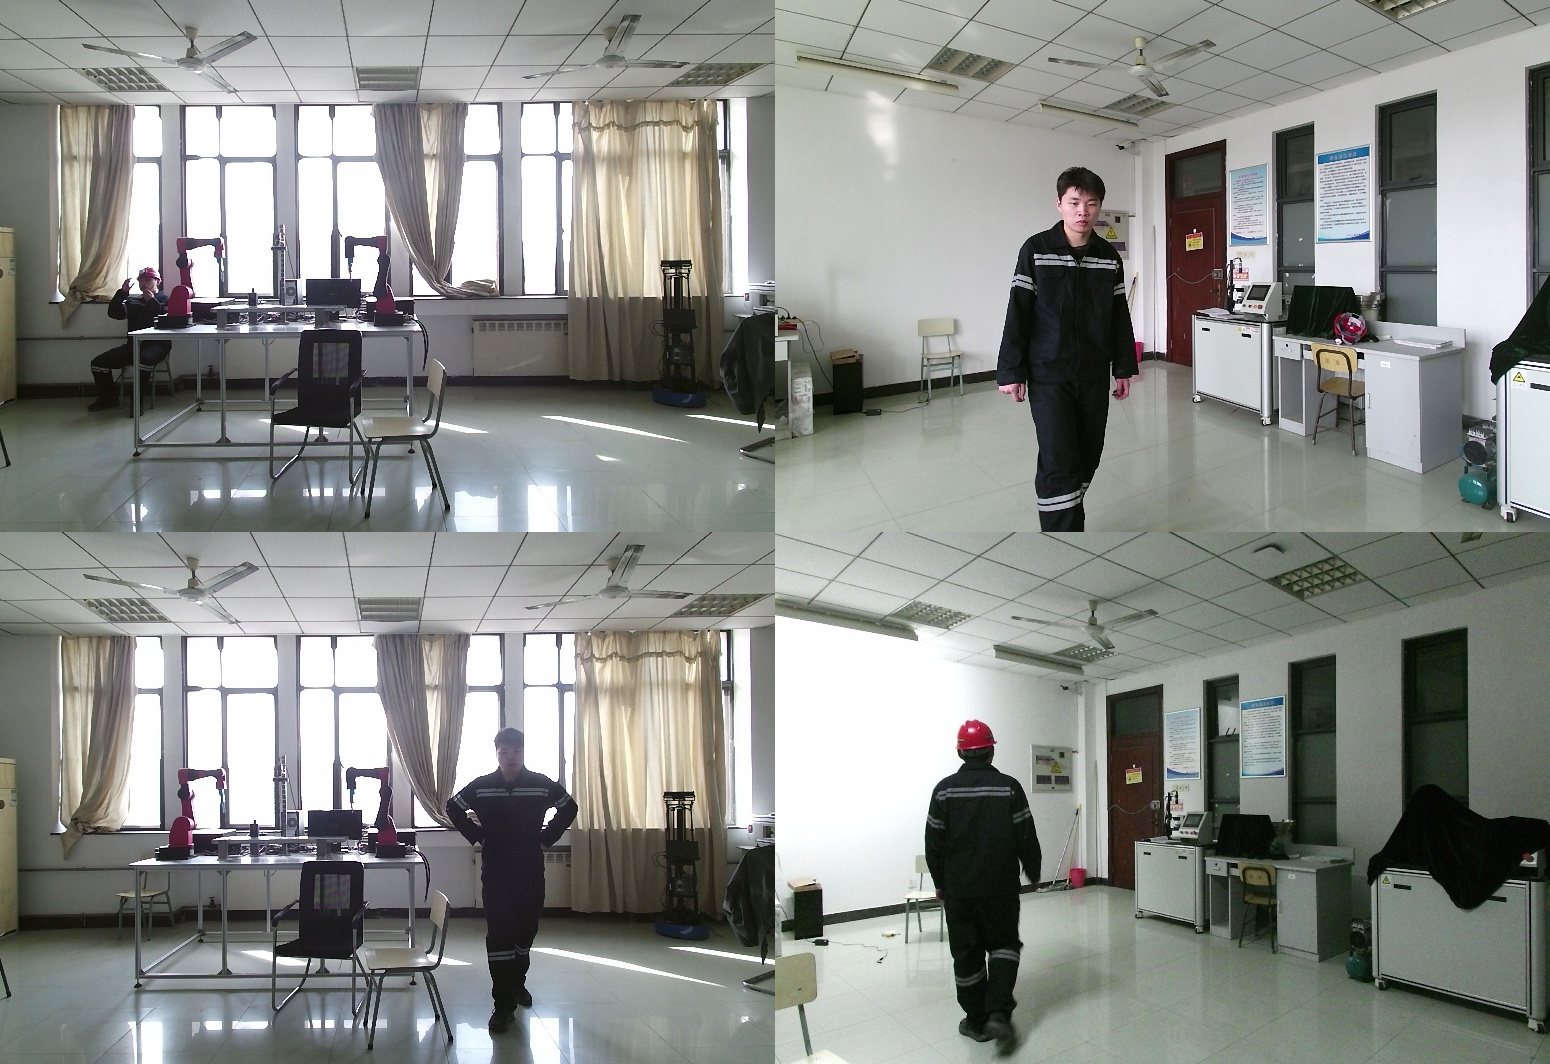person: (999, 168, 1137, 532), (925, 721, 1051, 1064), (448, 729, 589, 1030), (83, 266, 172, 416)
